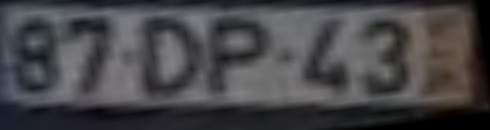3: (358, 17, 420, 104)
4: (297, 17, 358, 104)
7: (67, 15, 123, 105)
8: (9, 13, 70, 102)
D: (139, 14, 210, 105)
P: (204, 16, 280, 108)
